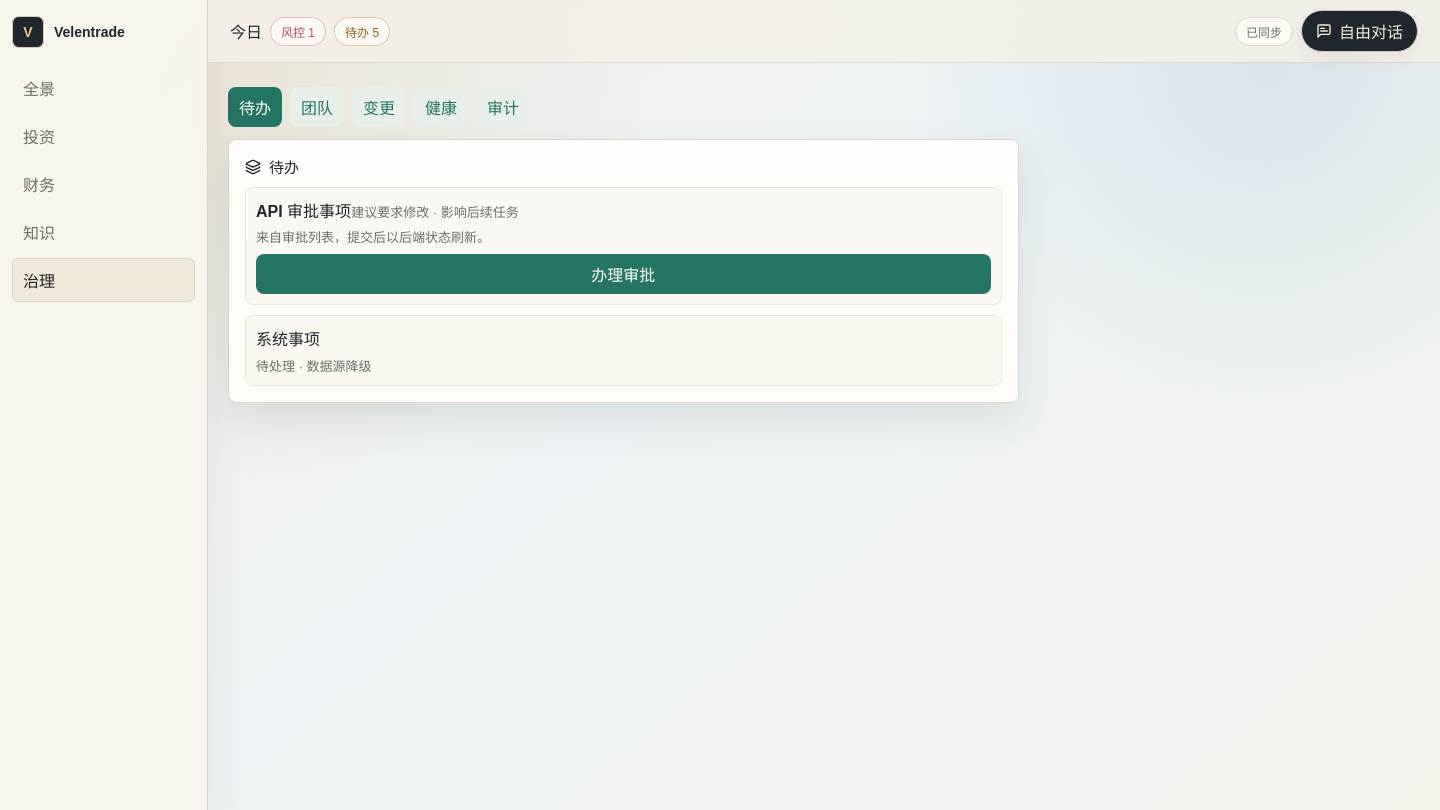
Test: WI-004 workbench interactions › loads governance tasks approvals and changes from their API read models
Click the link "变更" at [379, 107], box 352,87 -> 406,127
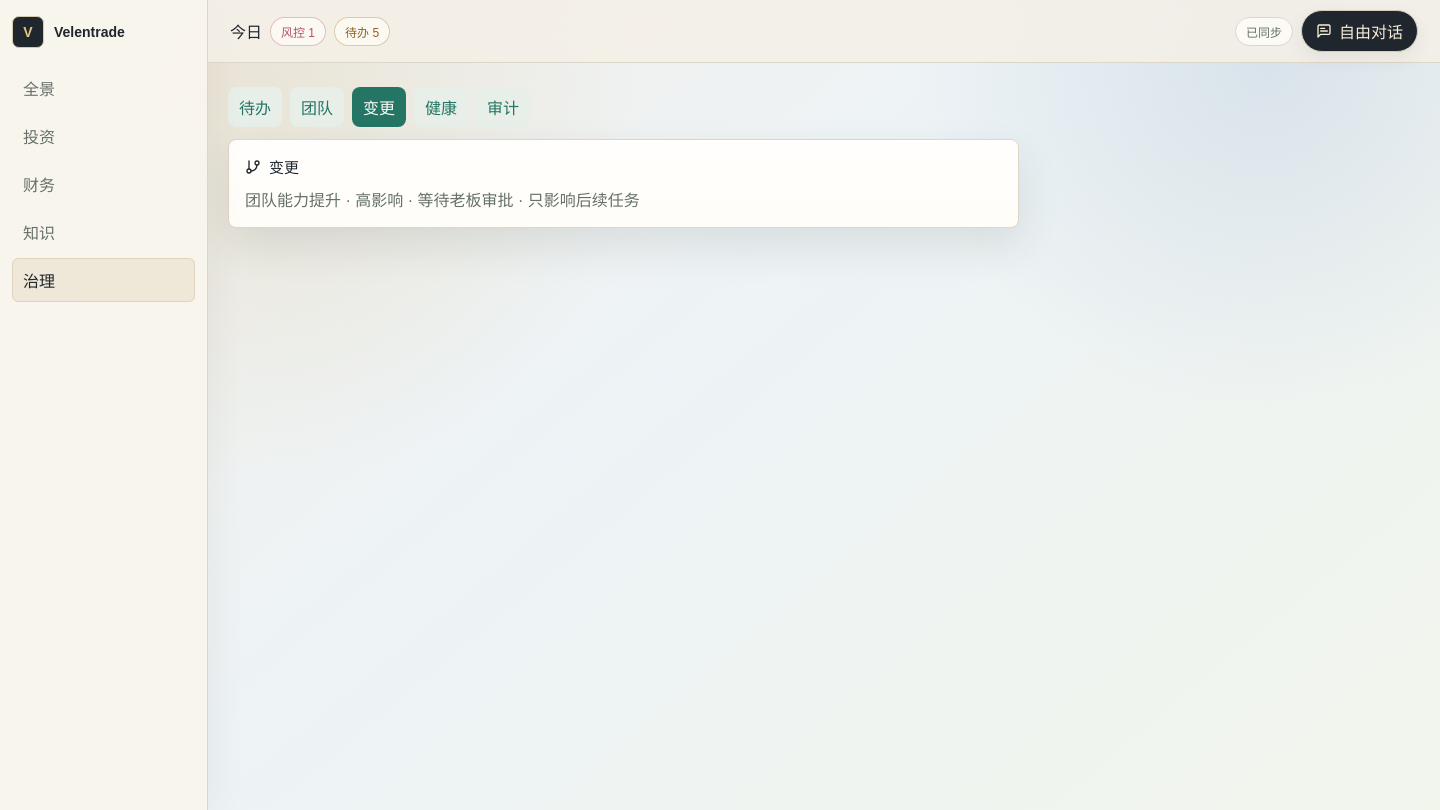
expect the text "后续任务" is shown: met, box 576,192 -> 640,209
expect the text "团队能力提升" is shown: met, box 245,192 -> 341,209
